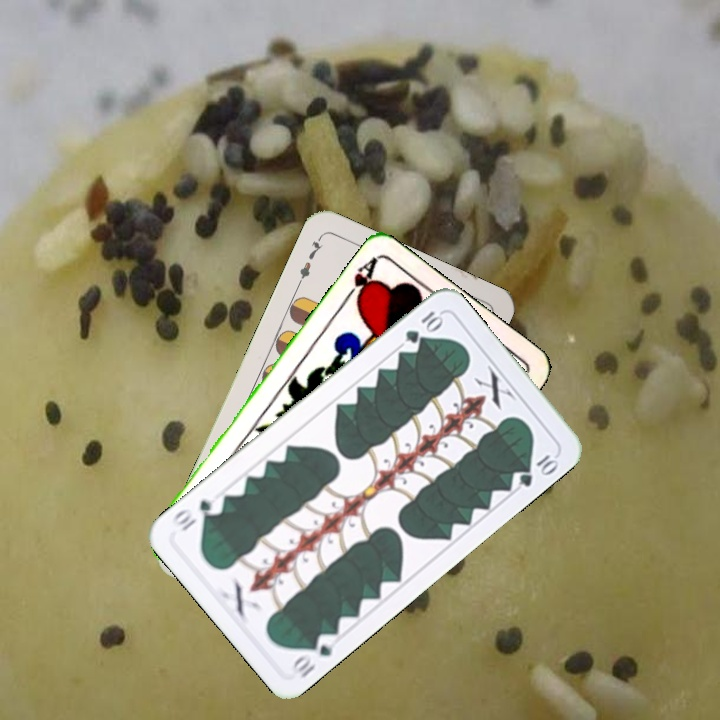E7: (293, 232, 325, 288)
G10: (286, 629, 340, 681), (401, 307, 446, 346)
HA: (338, 253, 380, 307)
